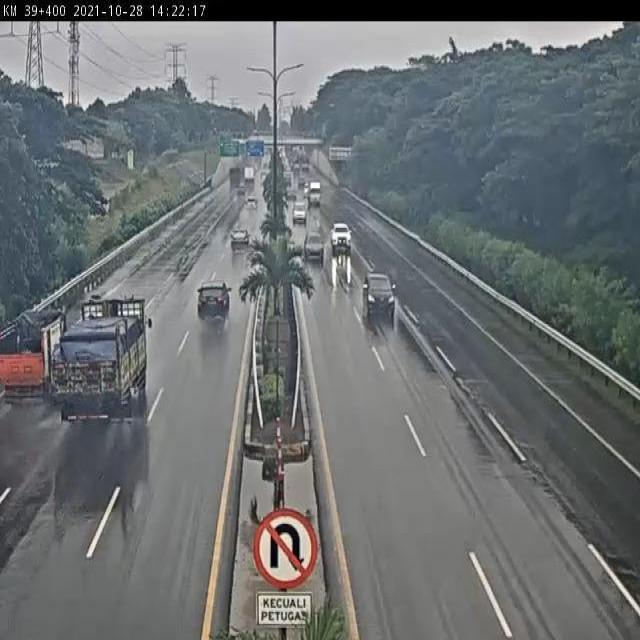car: (199, 284, 230, 321), (305, 229, 324, 264), (229, 226, 252, 253)
small truck: (0, 305, 69, 399)
truck-l-: (54, 297, 153, 420)
